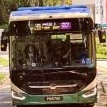bus: (59, 20, 70, 29)
